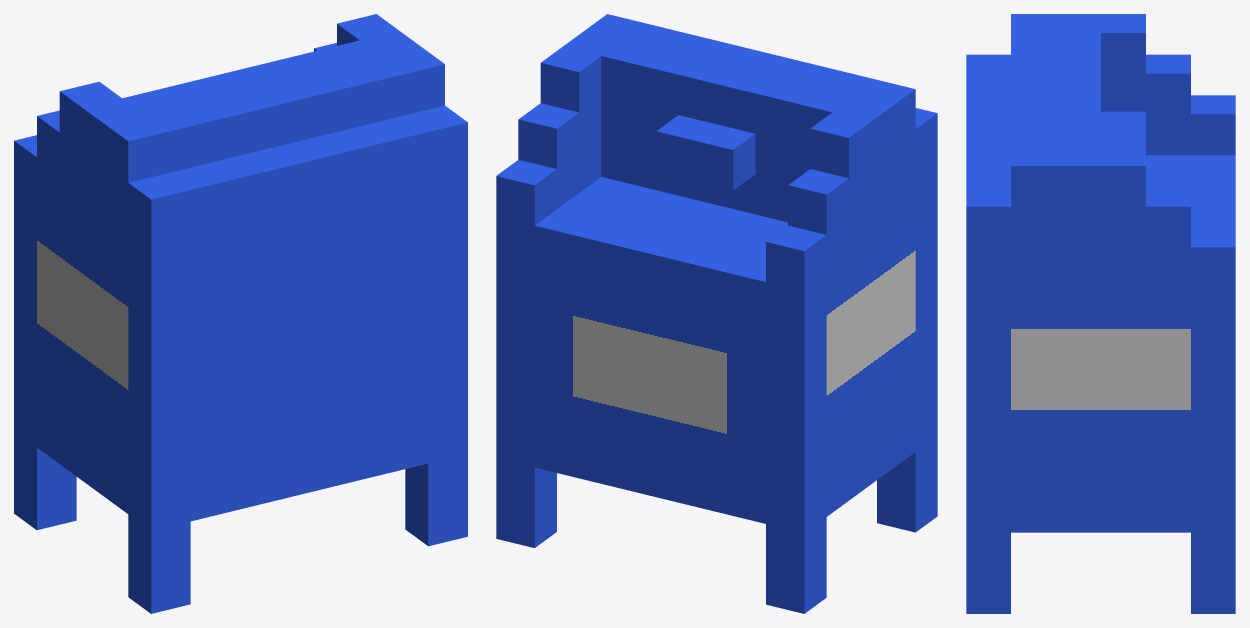
The model's file is obj_mailbox.fbx.
3 views of the same model, side by side, from view 1: azimuth 30°, elevation 25°; view 2: azimuth 150°, elevation 25°; view 3: azimuth 270°, elevation 25° (orthographic). The views are drawn at different scales.
Parts seen in each view (by area): view 1: obj_mailbox; view 2: obj_mailbox; view 3: obj_mailbox.
Part boxes in pixels (x1=…): obj_mailbox: x1=14, y1=14, x2=467, y2=613; obj_mailbox: x1=496, y1=14, x2=937, y2=613; obj_mailbox: x1=966, y1=14, x2=1235, y2=613.
Size of the model in its own units: 0.8 by 0.6 by 1.1.
Materials: 1 (1 with a texture image).
